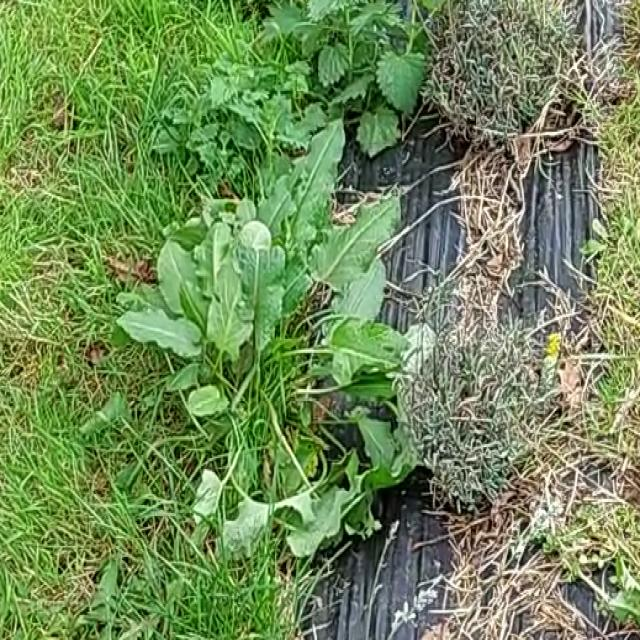organic waste: (54, 88, 439, 536)
